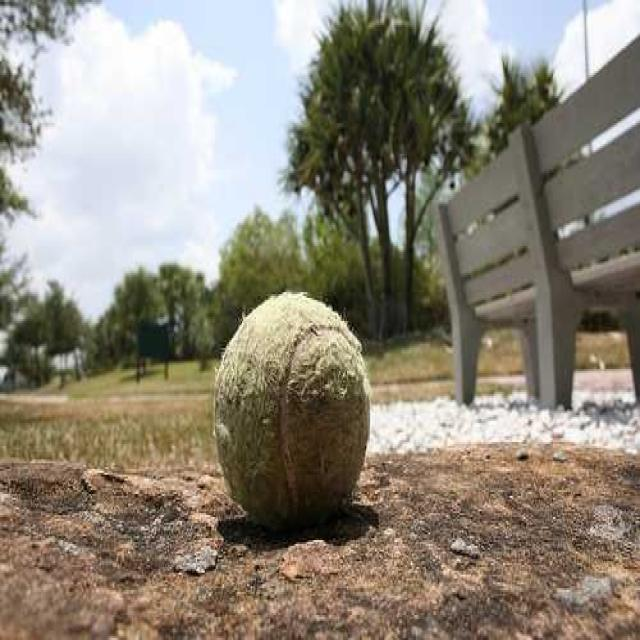Tennis_Ball: (221, 287, 373, 516)
